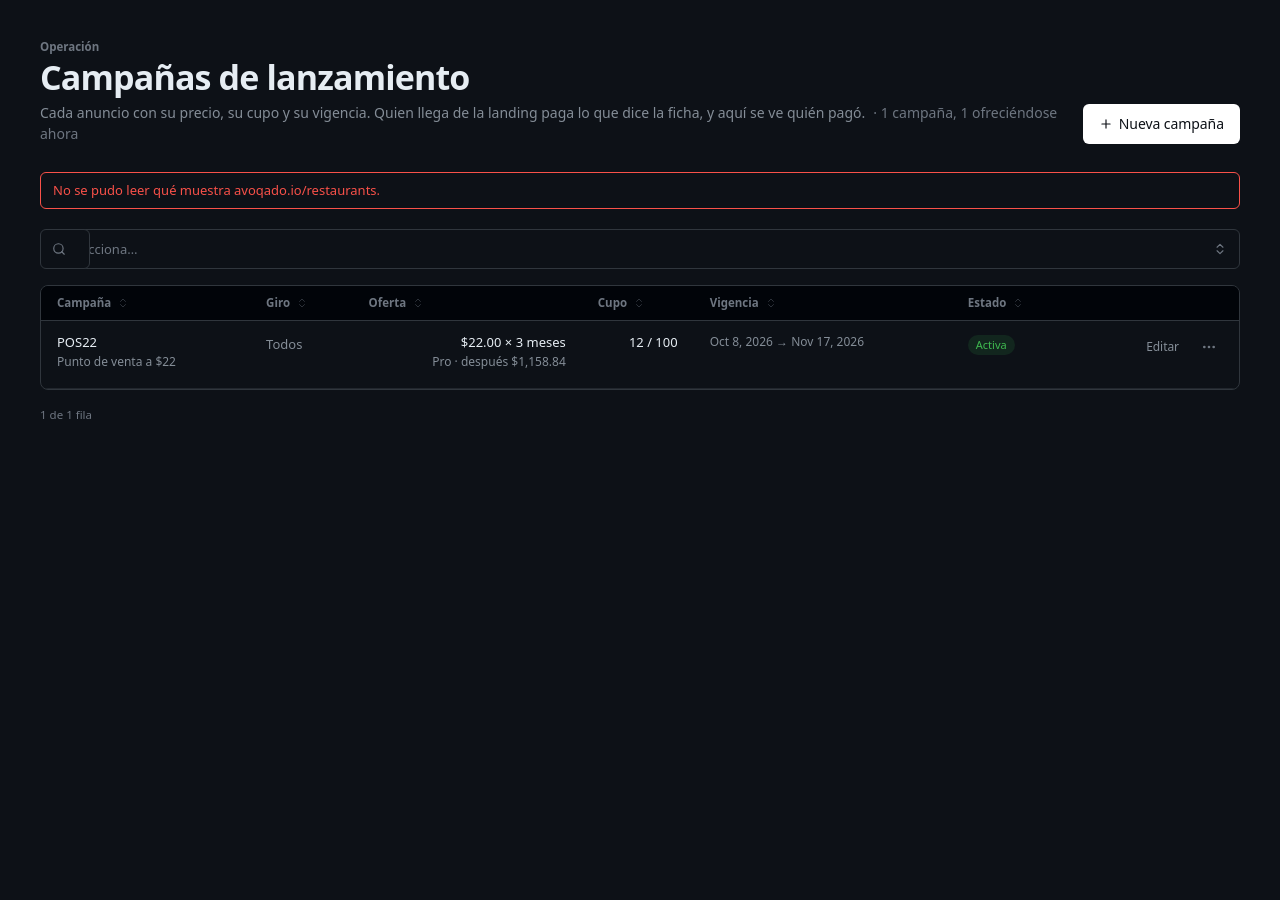
Test: LaunchCampaignDetail (desde la lista) › las redenciones se piden paginadas y «Cargar más» pide la página 2
Click the text "POS22" at (77, 343), box [57, 333, 97, 353]
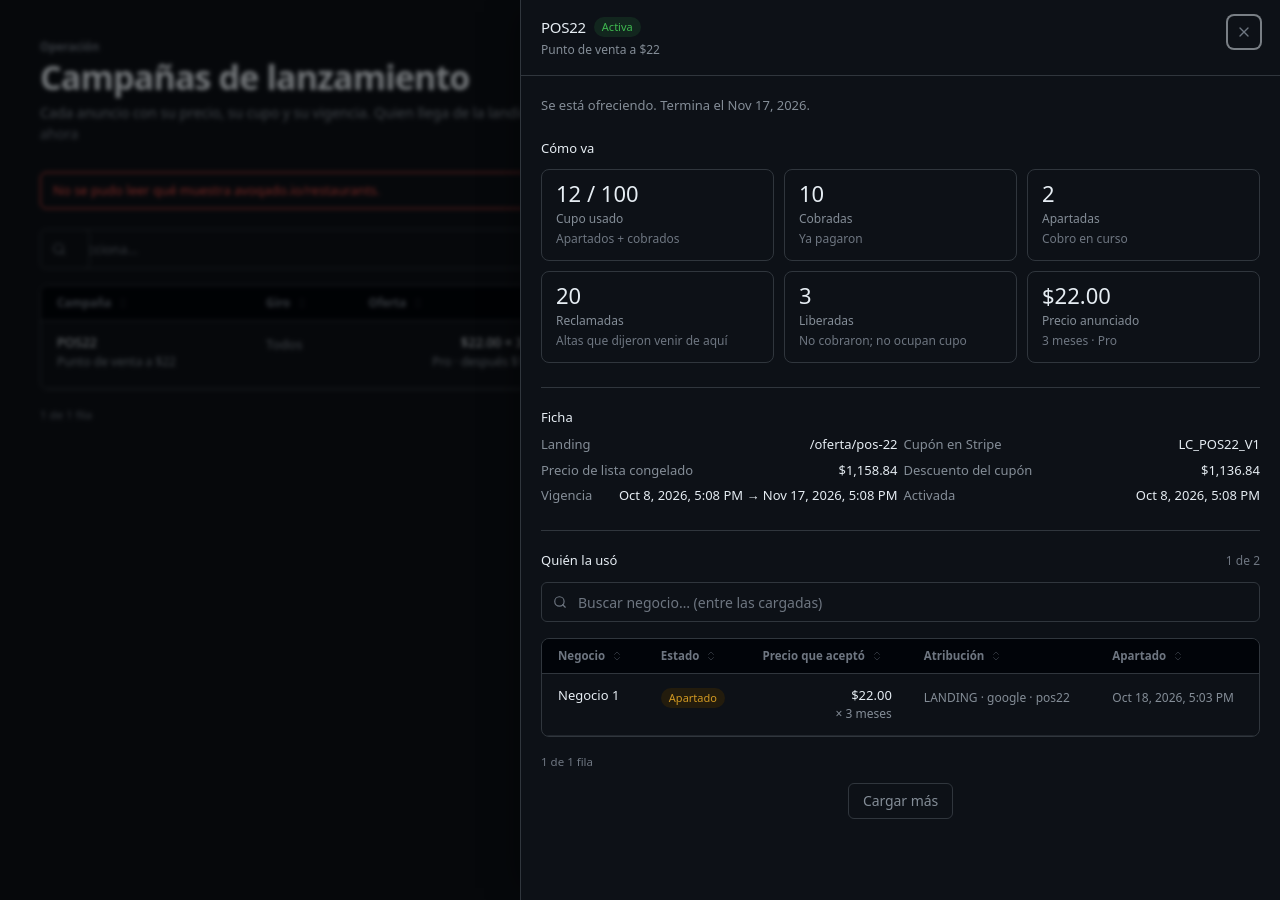
Result: the text "Negocio 1" is shown at [558, 686, 629, 705]
Click the button "Cargar más" at (900, 800), box [848, 782, 953, 818]
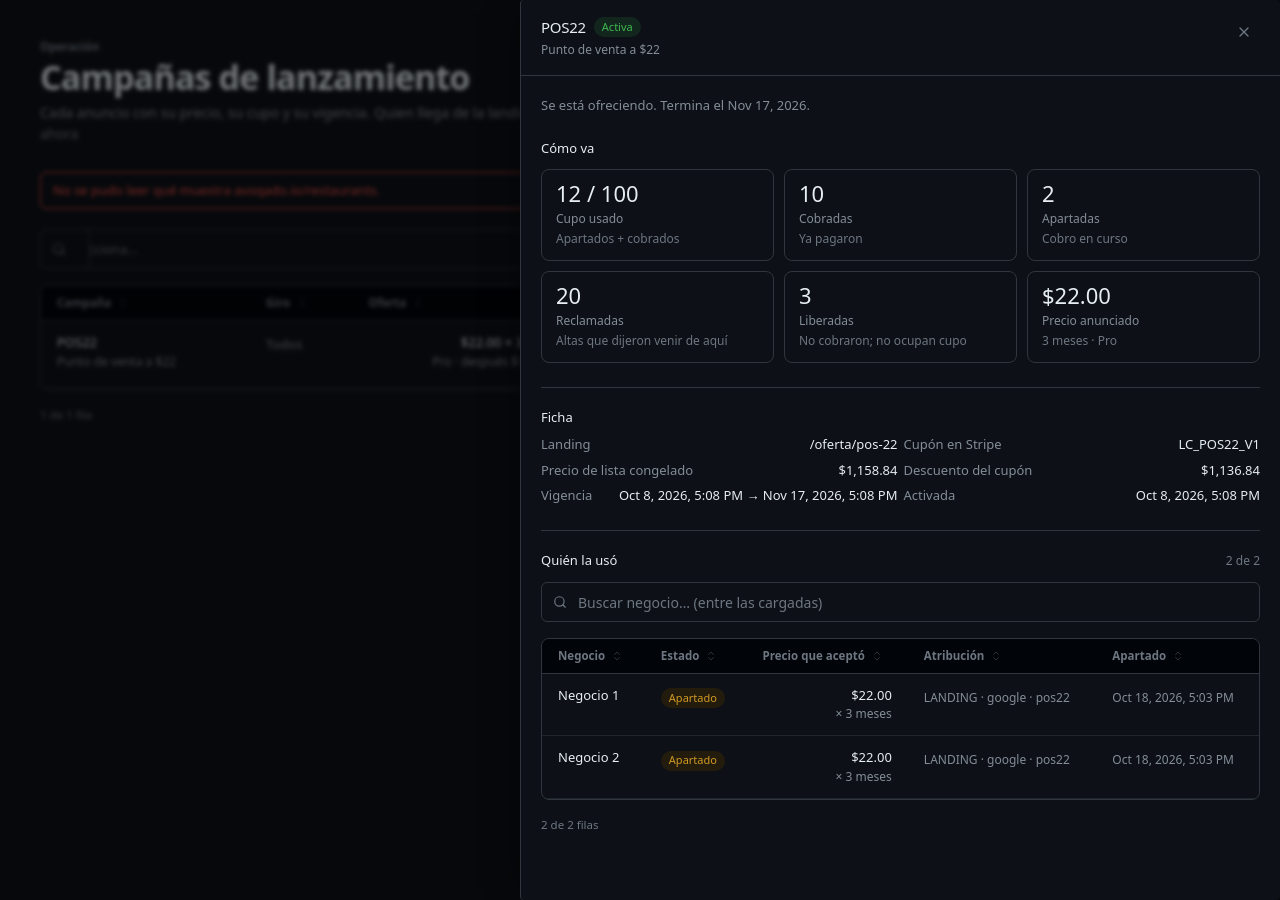
Result: the text "Negocio 2" is shown at [558, 748, 629, 768]
